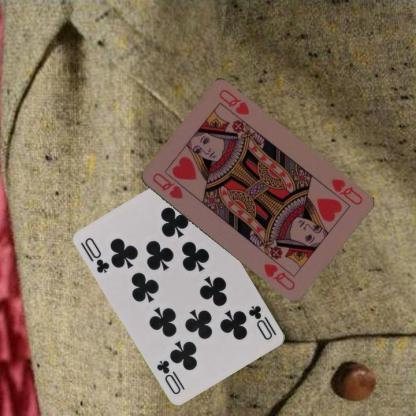10c: (78, 234, 112, 274), (246, 302, 274, 342)
Qh: (328, 175, 364, 207), (149, 170, 185, 200)
